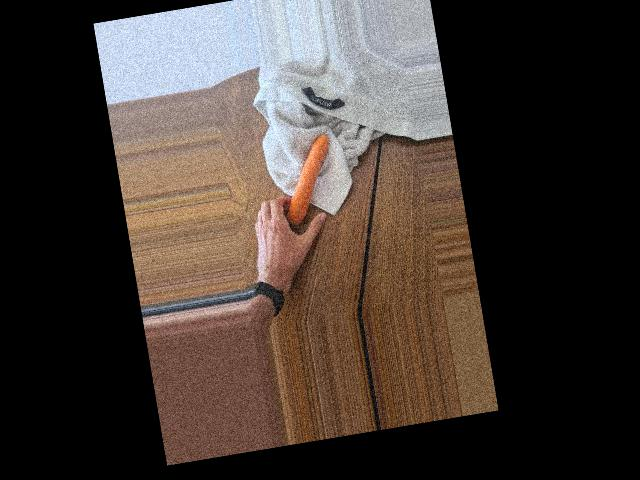carrot: (273, 132, 343, 231)
